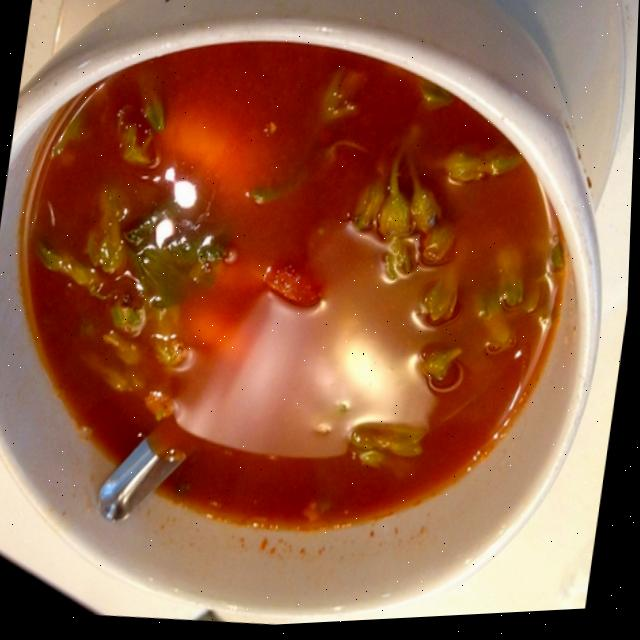汤锅炖物: (0, 0, 619, 626)
